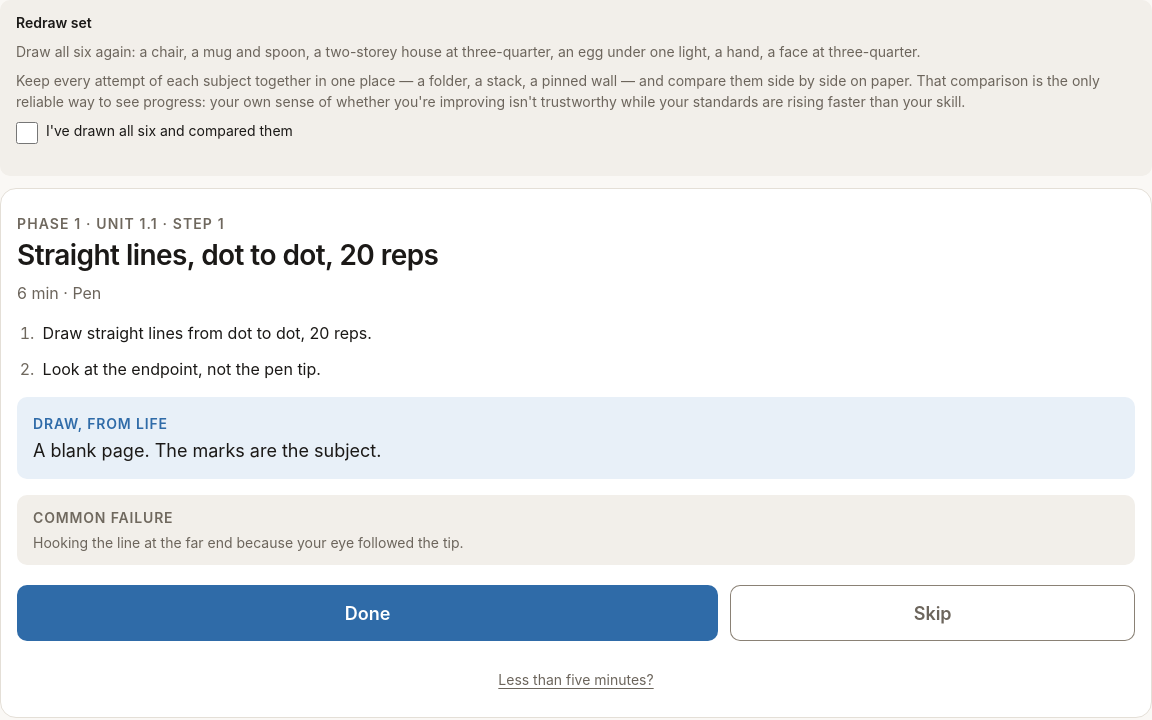
Test: redraw prompts › checking the box logs completion — nothing more
Click the checkbox at (27,133), box [16, 122, 38, 144]
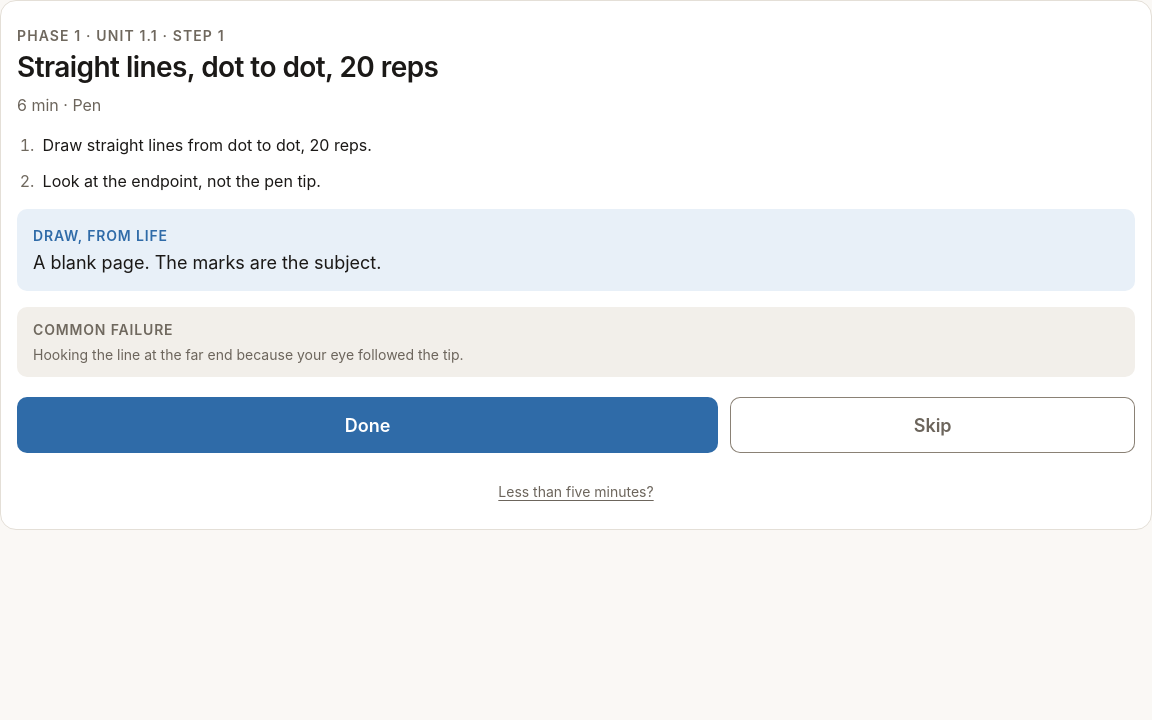
Check: the text "Redraw set" is gone
